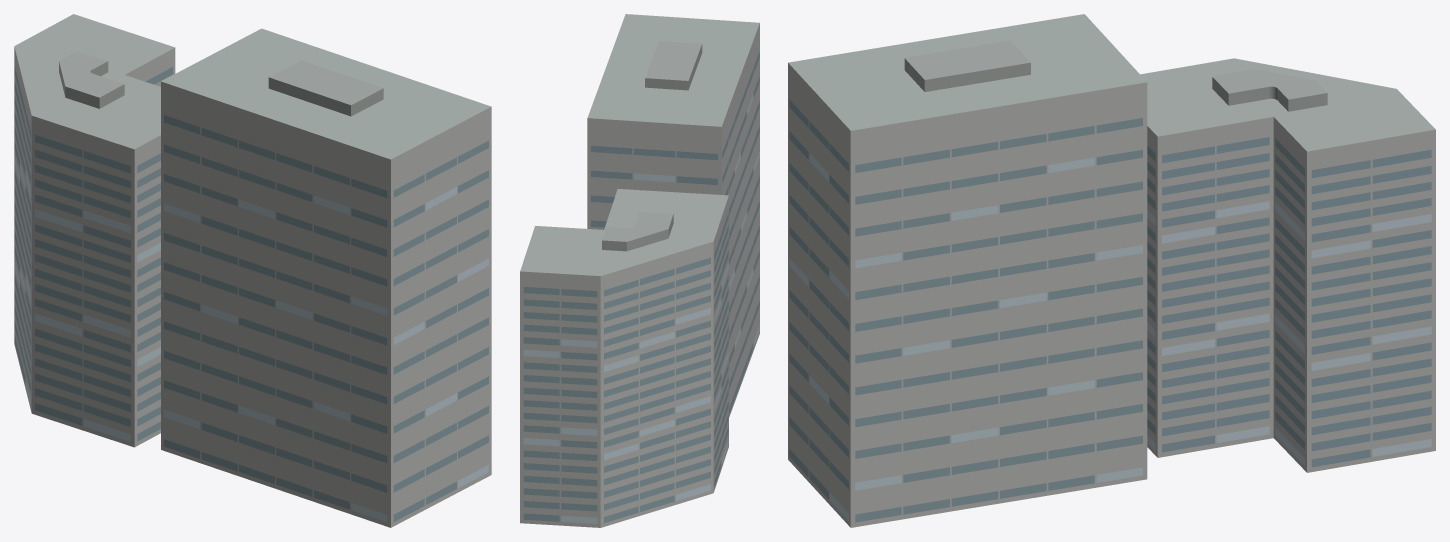
Rendered from apt-a13770608.glb.
3 renders of one model, left to right at view 1: azimuth 30°, elevation 25°; view 2: azimuth 150°, elevation 25°; view 3: azimuth 270°, elevation 25°, orthographic. The views are drawn at different scales.
Visible parts, largest first — view 1: apt-a13770608; view 2: apt-a13770608; view 3: apt-a13770608.
Boxes of the visible parts, <box> form: apt-a13770608: <box>14,14,491,527</box>; apt-a13770608: <box>520,14,759,527</box>; apt-a13770608: <box>788,14,1435,527</box>.
Size of the model in its own units: 62.99 by 81 by 116.
